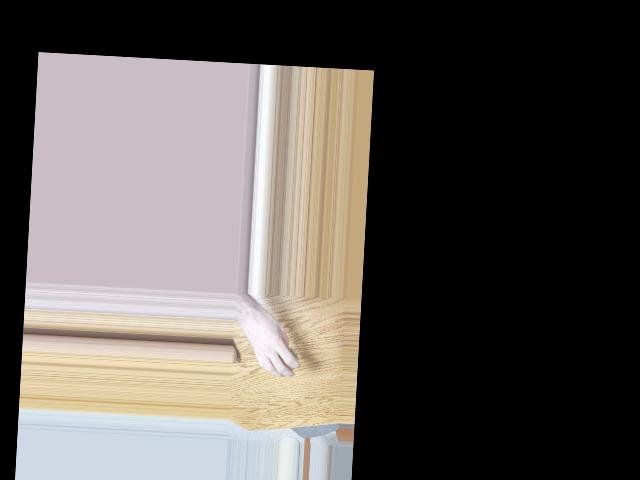onion: (273, 343, 299, 373)
